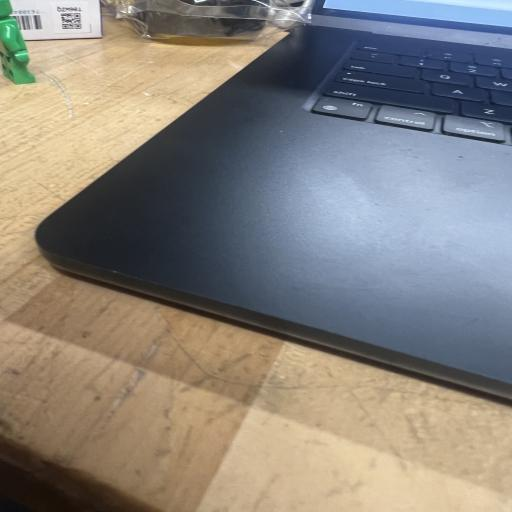green-lego-minifigure-detector: (0, 0, 35, 84)
